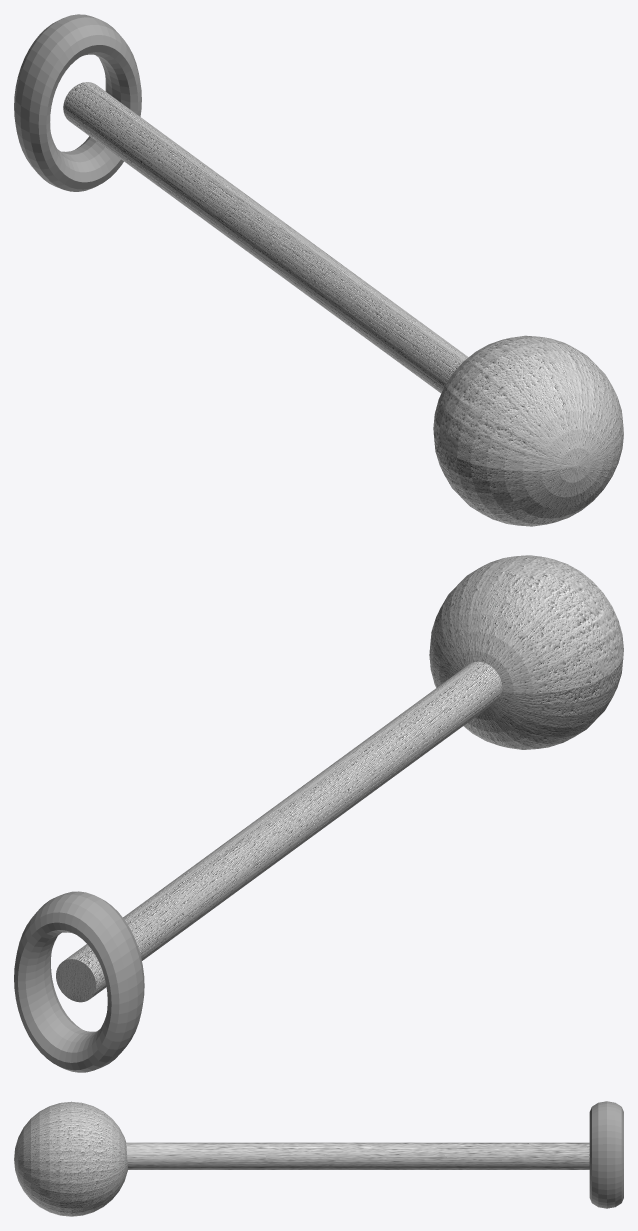
File: lampada.obj
The picture shows the model from 3 angles, top to bottom: view 1: azimuth 30°, elevation 25°; view 2: azimuth 150°, elevation 25°; view 3: azimuth 270°, elevation 25°; orthographic projection. The views are drawn at different scales.
Visible parts, largest first — view 1: Lampada_Cilindro.001; view 2: Lampada_Cilindro.001; view 3: Lampada_Cilindro.001.
Boxes of the visible parts, bbox=[...] form: Lampada_Cilindro.001: bbox=[14, 14, 623, 526]; Lampada_Cilindro.001: bbox=[14, 555, 623, 1072]; Lampada_Cilindro.001: bbox=[14, 1101, 623, 1216].
Bounding box in the file's own units: 1.68 × 1.7 × 8.89.
